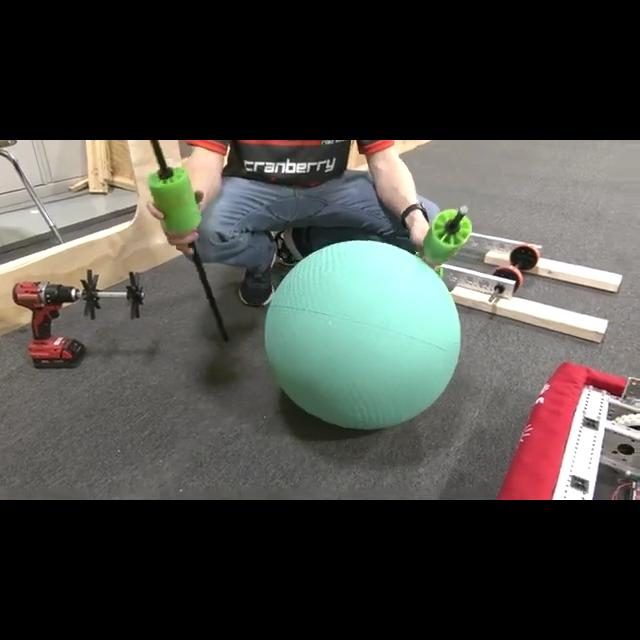ALGAE: (262, 238, 462, 430)
